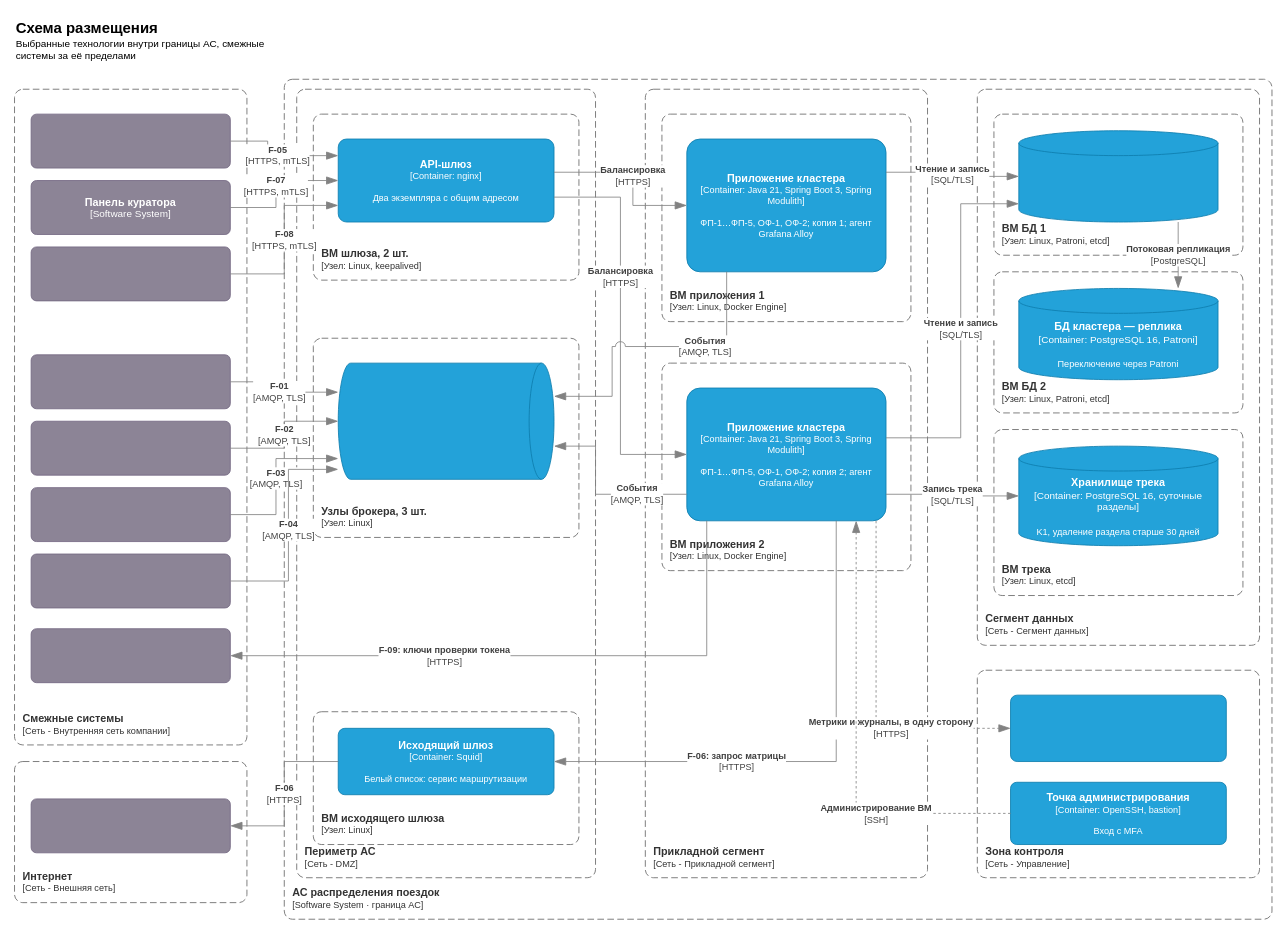
Image size: 1287x934. Some labels were removed from this diagram. Here are the shapes that lost their labels. From the top down, the centre of each, then its label:
At (130,140): "Приложение курьера [Software System]".
At (1118,176): "БД кластера — основной сервер [Container: PostgreSQL 16, Patroni] Схемы d01–d05".
At (130,273): "Рабочее место сети [Software System]".
At (130,381): "Система заказов [Software System]".
At (445,420): "Брокер событий [Container: RabbitMQ] Кворумные очереди, очередь недоставленных".
At (130,447): "WMS сети [Software System]".
At (130,514): "Справочник подзон [Software System]".
At (130,580): "Кадровая система [Software System]".
At (130,655): "Сервер учётных записей сети [Software System]".
At (1118,728): "Мониторинг [Container: Prometheus, Grafana, Loki] Метрики и журналы".
At (130,825): "Сервис маршрутизации [Software System]".
